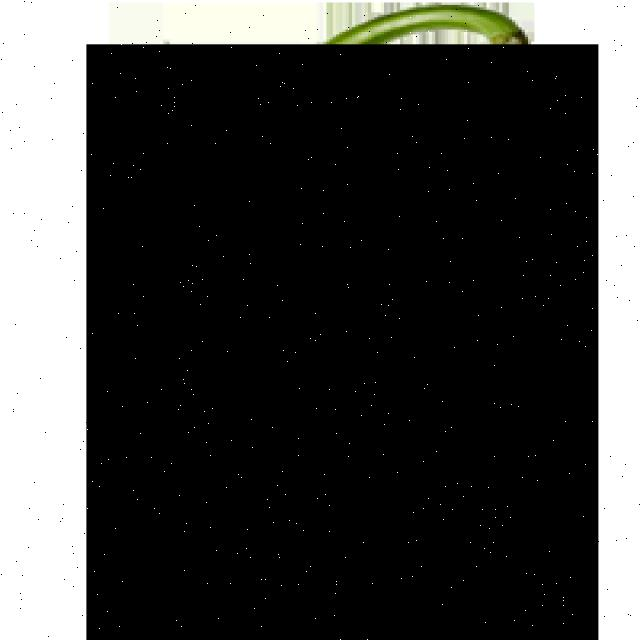Chili_Pepper: (87, 44, 598, 640)
